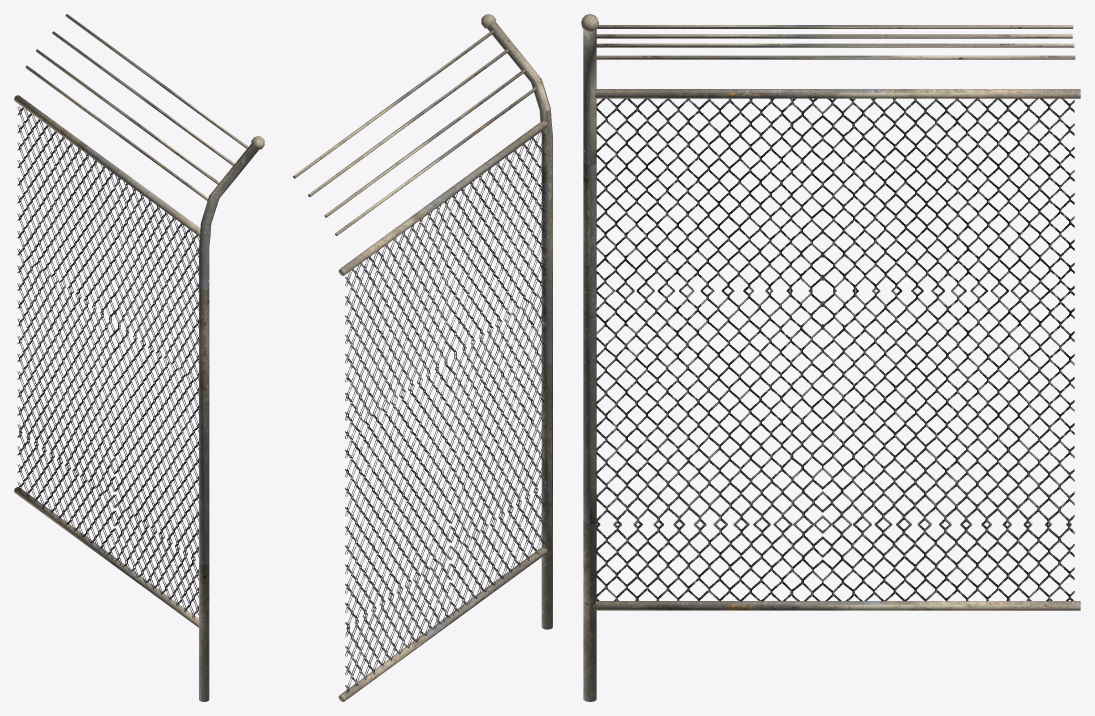
Rendered from Chain_Modular_Left.fbx.
3 renders of one model, left to right at view 1: azimuth 30°, elevation 25°; view 2: azimuth 150°, elevation 25°; view 3: azimuth 270°, elevation 25°, orthographic. The views are drawn at different scales.
Parts seen in each view (by area): view 1: Chain_Modular_Left; view 2: Chain_Modular_Left; view 3: Chain_Modular_Left.
Boxes of the visible parts, <box> form: Chain_Modular_Left: <box>14,14,264,701</box>; Chain_Modular_Left: <box>293,14,552,701</box>; Chain_Modular_Left: <box>581,14,1080,701</box>.
Size of the model in its own units: 100 by 819 by 516.
